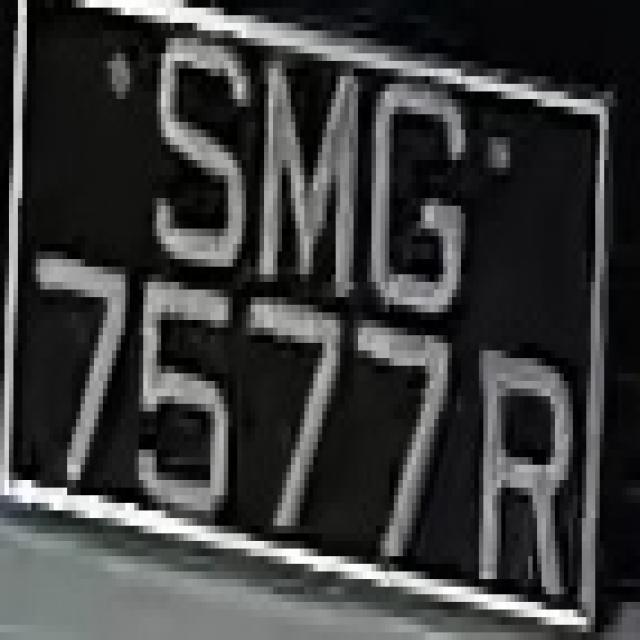5: (138, 266, 242, 510)
7: (31, 205, 130, 526), (250, 259, 344, 541), (363, 305, 452, 571)
G: (362, 45, 479, 328)
M: (260, 38, 362, 328)
R: (470, 335, 591, 610)
S: (143, 38, 251, 305)
